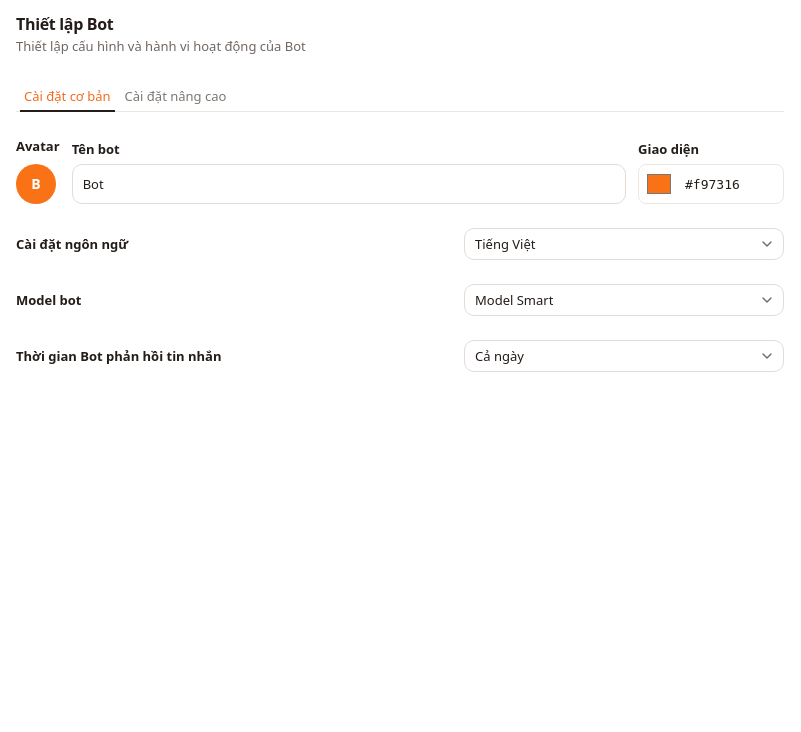
BotSettingsForm advanced tab › keeps technical items only and points to the screens that own the rest
Step 1. Click the tab "Cài đặt nâng cao" → (176, 96), box [120,84,231,108]
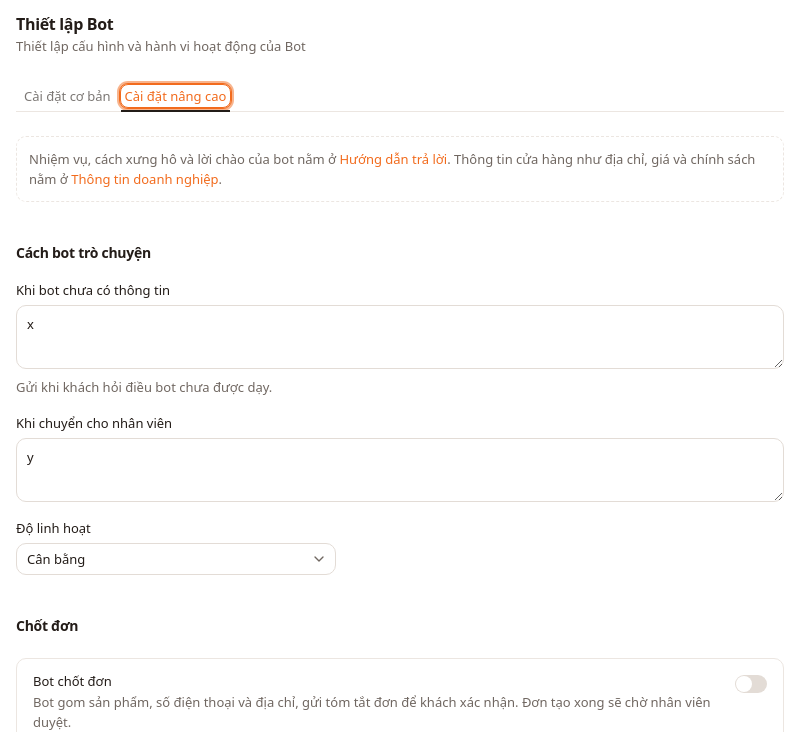
Now the text box labelled "Khi bot chưa có thông tin" is shown, box [16,305,784,369]
Now the text box labelled "Khi chuyển cho nhân viên" is shown, box [16,438,784,502]
